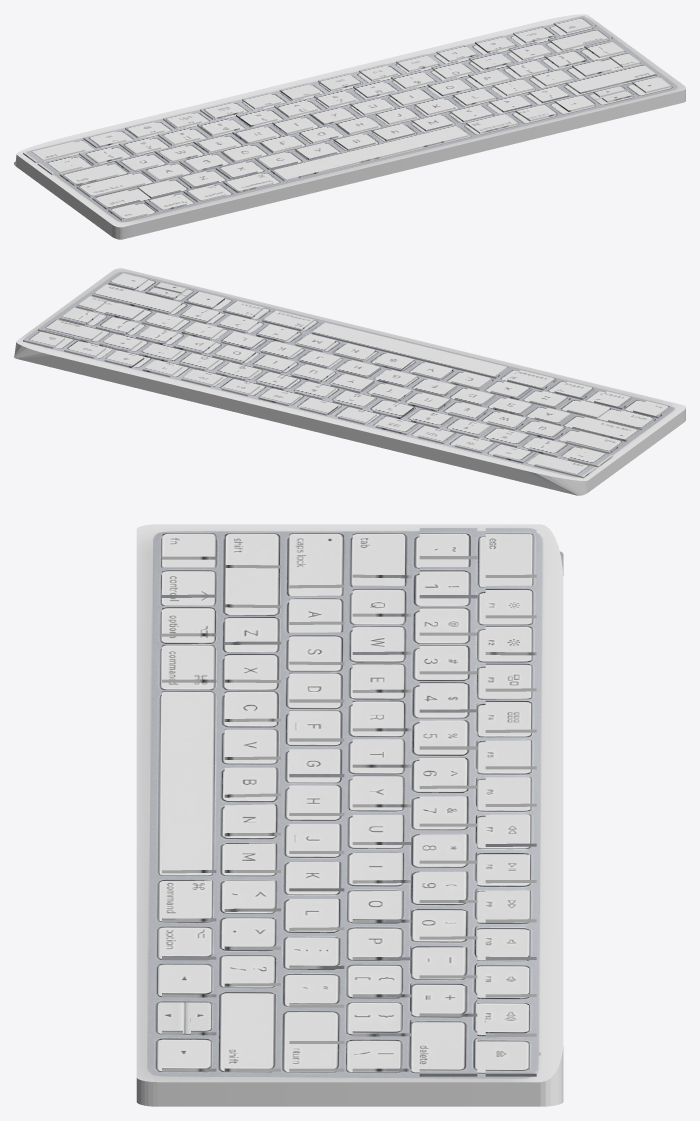
The model's file is Keyboard.fbx.
The picture shows the model from 3 angles, top to bottom: view 1: azimuth 30°, elevation 25°; view 2: azimuth 150°, elevation 25°; view 3: azimuth 270°, elevation 25°; orthographic projection. The views are drawn at different scales.
Visible parts, largest first — view 1: Cube.001; view 2: Cube.001; view 3: Cube.001.
Part boxes in pixels (x1,y1,x2,y2): Cube.001: [14, 14, 685, 239]; Cube.001: [14, 268, 685, 495]; Cube.001: [136, 524, 563, 1106].
Size of the model in its own units: 469 by 10.84 by 152.
Materials: 1 (1 with a texture image).
